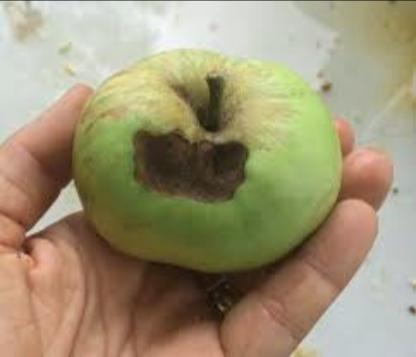defect: (124, 101, 262, 235)
